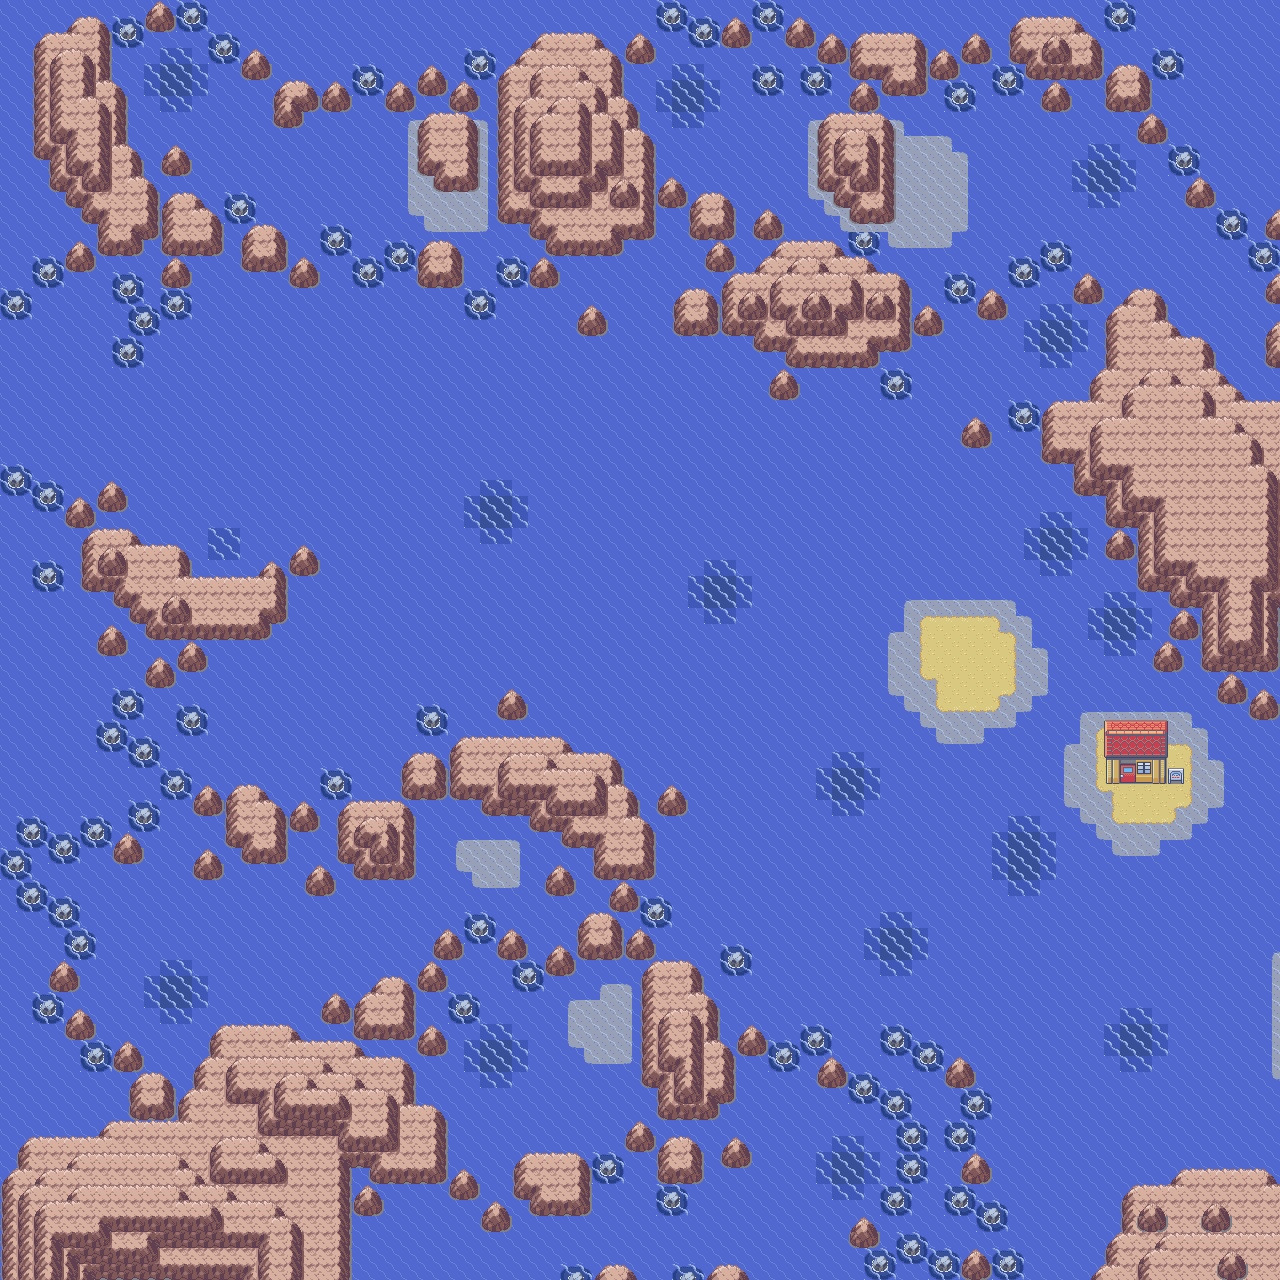normal_house: (1101, 717, 1172, 788)
